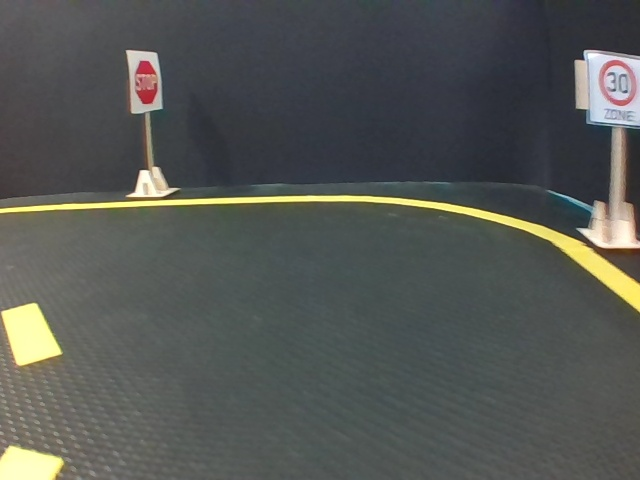30: (586, 48, 640, 128)
stop: (126, 50, 163, 111)
